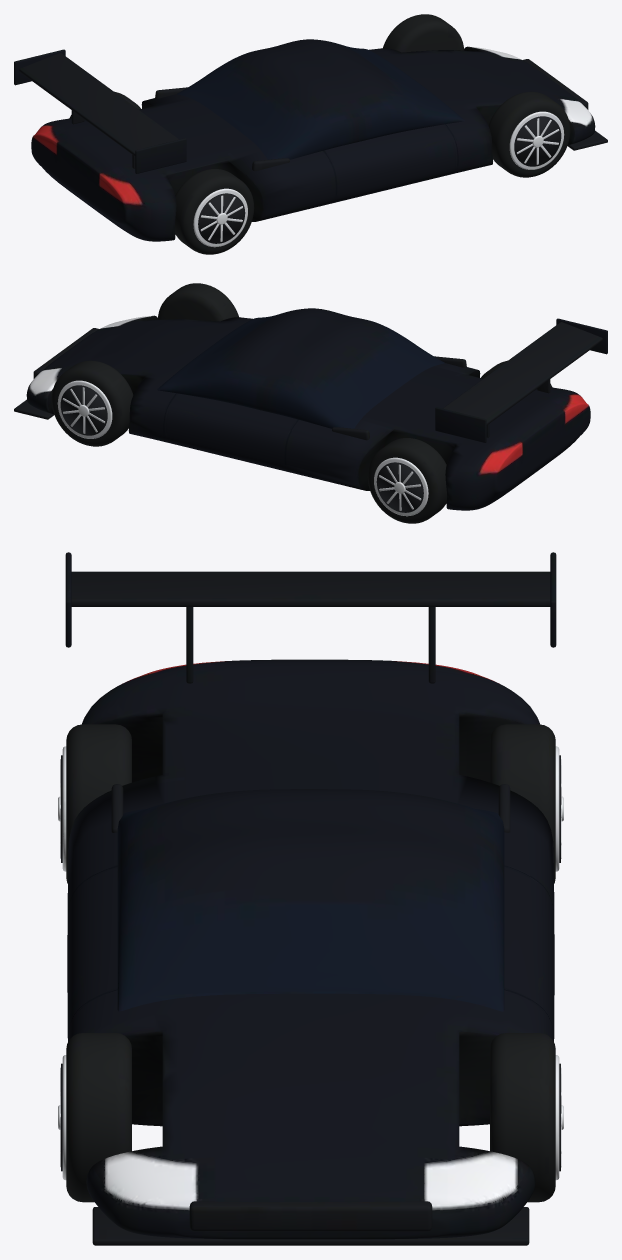
File: car-4.glb
The picture shows the model from 3 angles, top to bottom: view 1: azimuth 30°, elevation 25°; view 2: azimuth 150°, elevation 25°; view 3: azimuth 270°, elevation 25°; orthographic projection. The views are drawn at different scales.
Visible parts, largest first — view 1: Body, Body_2, Body_4, Body_3, Body_6, Body_5, Body_1; view 2: Body, Body_2, Body_4, Body_3, Body_6, Body_5, Body_1; view 3: Body, Body_2, Body_3, Body_4, Body_1, Body_5.
Part boxes in pixels (x1,y1,x2,y2): Body: [14, 47, 595, 241]; Body_2: [177, 39, 464, 159]; Body_4: [69, 14, 570, 254]; Body_3: [19, 53, 607, 171]; Body_6: [198, 116, 561, 243]; Body_5: [193, 111, 564, 247]; Body_1: [141, 46, 574, 221]; Body: [26, 316, 607, 510]; Body_2: [157, 308, 444, 428]; Body_4: [51, 283, 552, 523]; Body_3: [14, 322, 602, 440]; Body_6: [60, 385, 423, 512]; Body_5: [57, 380, 428, 516]; Body_1: [47, 315, 480, 490]; Body: [65, 552, 556, 1239]; Body_2: [117, 789, 504, 1011]; Body_3: [71, 571, 550, 1245]; Body_4: [66, 724, 555, 1202]; Body_1: [98, 713, 523, 1126]; Body_5: [58, 746, 563, 1180].
Size of the model in its own units: 4.75 by 1.18 by 2.15.
Materials: 9 (9 with a texture image).
